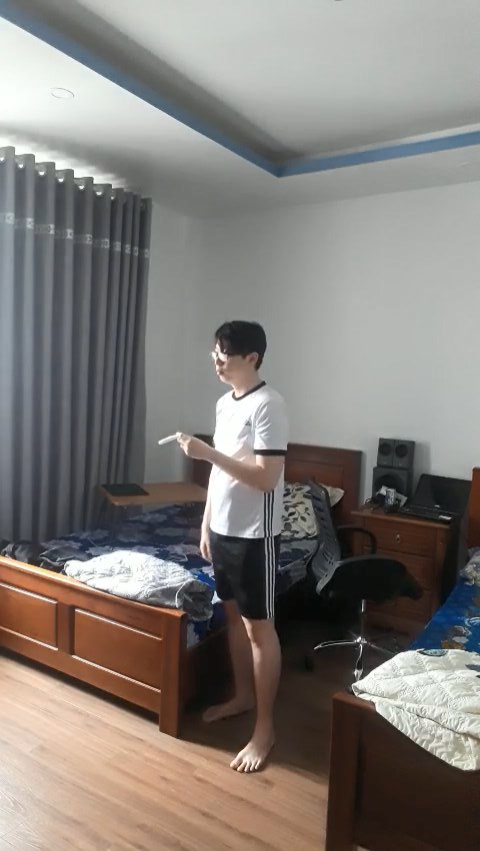cigarette: (158, 432, 180, 445)
person: (175, 311, 312, 791)
